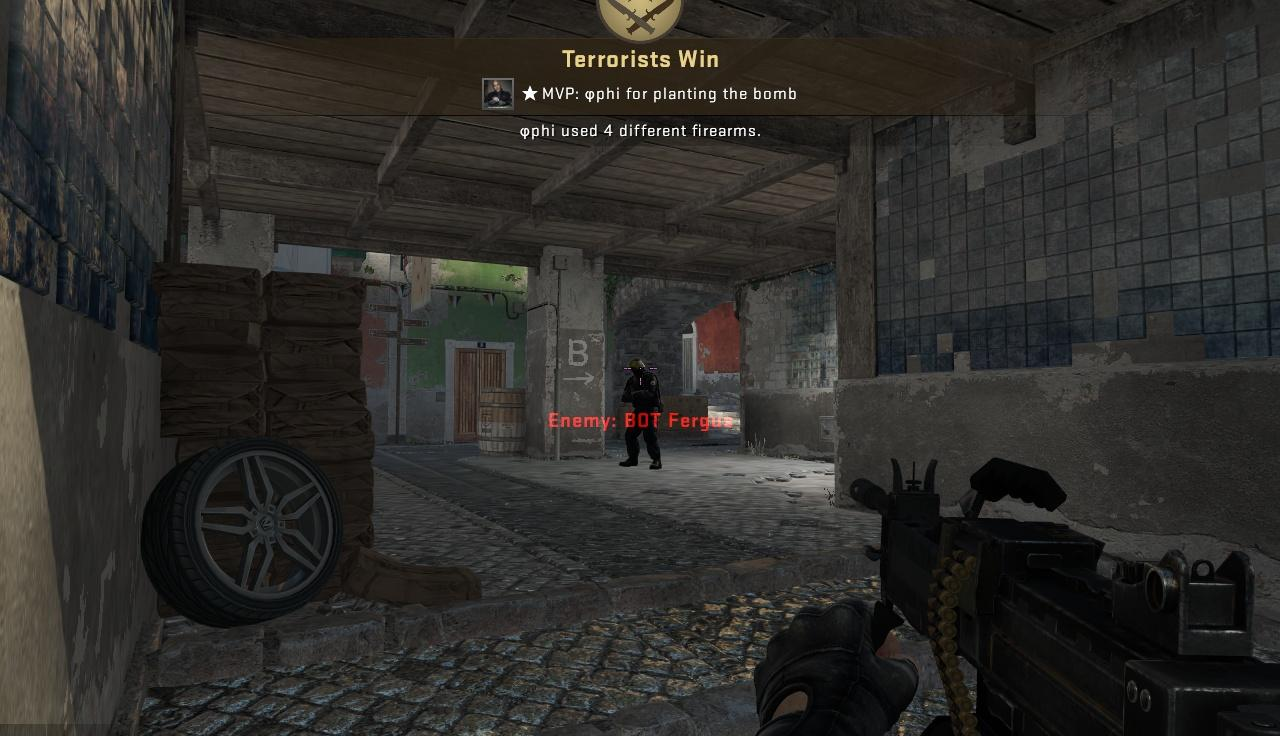ct: (621, 359, 662, 470)
cthead: (629, 359, 645, 374)
rifle: (833, 451, 1280, 736)
